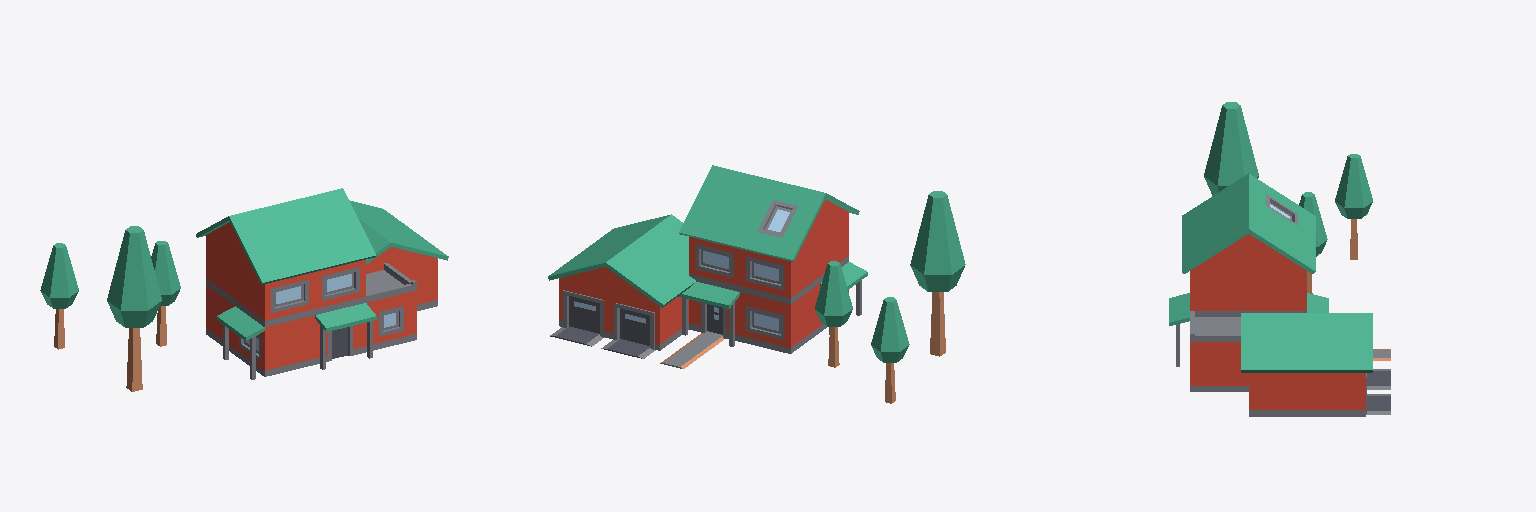
The model's file is city_house_long_e.obj.
The picture shows the model from 3 angles: view 1: azimuth 30°, elevation 25°; view 2: azimuth 150°, elevation 25°; view 3: azimuth 270°, elevation 25°; orthographic projection.
Parts seen in each view (by area): view 1: mergedBlocks; view 2: mergedBlocks; view 3: mergedBlocks.
Part boxes in pixels (bbox=[...]): mergedBlocks: bbox=[40, 188, 448, 391]; mergedBlocks: bbox=[548, 165, 965, 403]; mergedBlocks: bbox=[1169, 102, 1390, 416].
Bounding box in the file's own units: 1.76 × 0.767 × 0.9753.